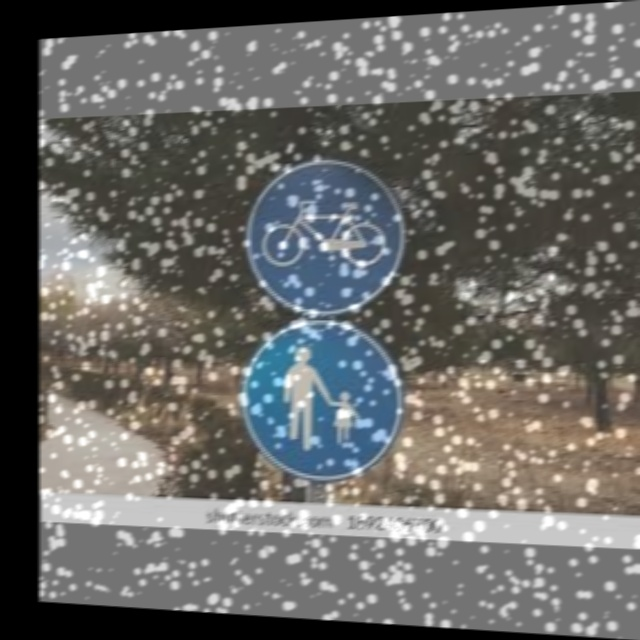Compulsory_Cycle_Track: (245, 157, 405, 311)
